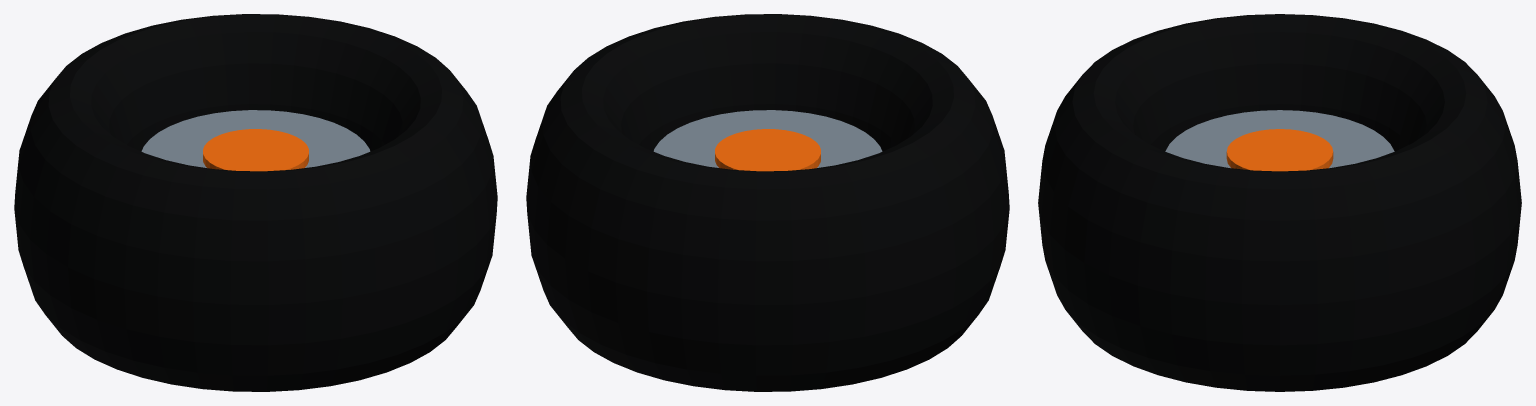
Rendered from MonsterTruckWheel.obj.
The picture shows the model from 3 angles, left to right: view 1: azimuth 30°, elevation 25°; view 2: azimuth 150°, elevation 25°; view 3: azimuth 270°, elevation 25°; orthographic projection.
Bounding box in the file's own units: 2 × 1 × 2.
